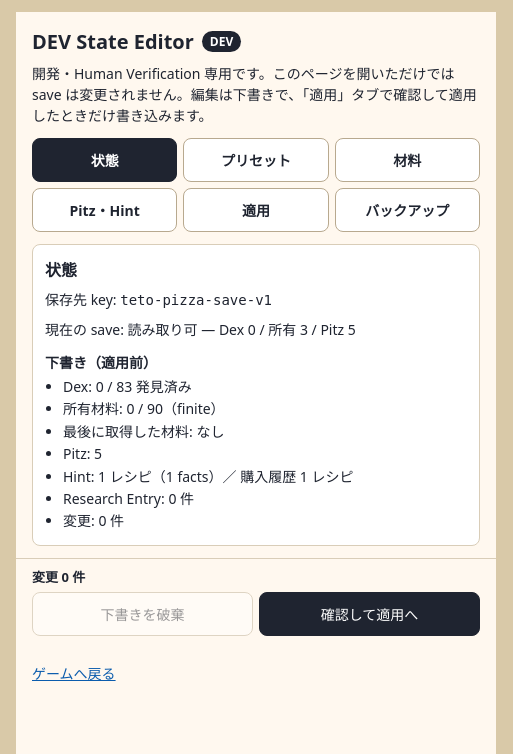
Test: review and the explicit apply › a backup that cannot be written means nothing is applied, and the error says so
Click the tab "プリセット".
click(256, 160)  # box [183, 138, 329, 182]
(page scrolled)
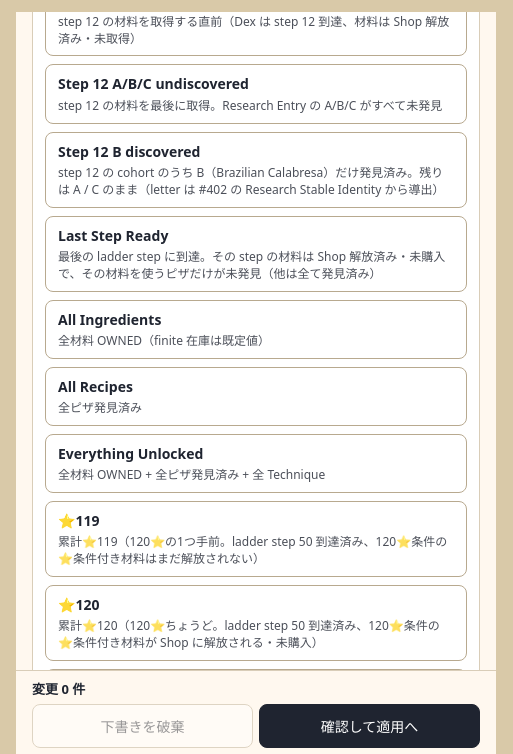
Click the button "All Recipes 全ピザ発見済み".
click(95, 386)  # box [45, 367, 467, 426]
(page scrolled)
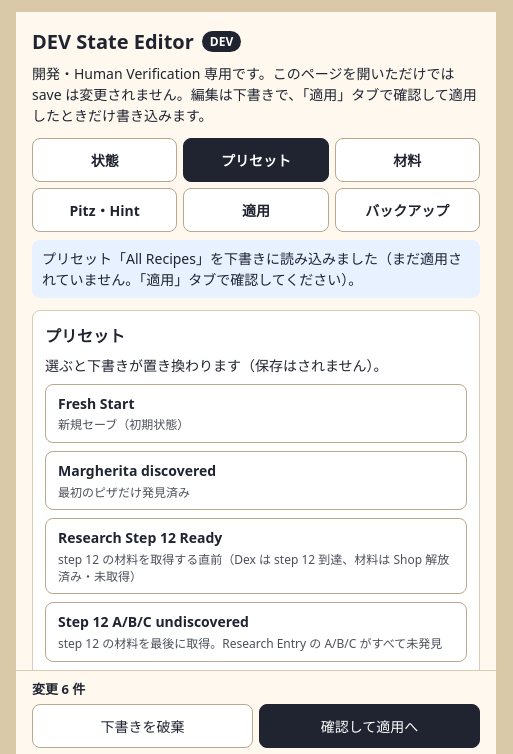
Click the tab "適用".
click(256, 210)  # box [183, 188, 329, 232]
(page scrolled)
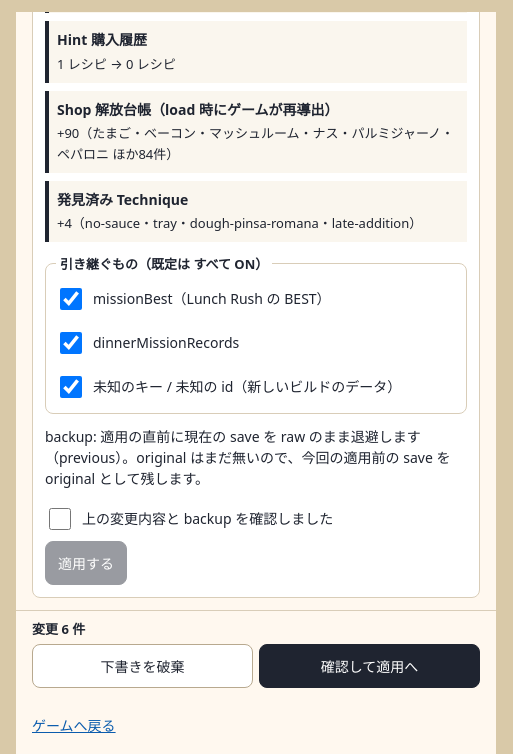
Click the checkbox labelled "上の変更内容と backup を確認しました".
click(60, 519)  # box [49, 508, 71, 530]
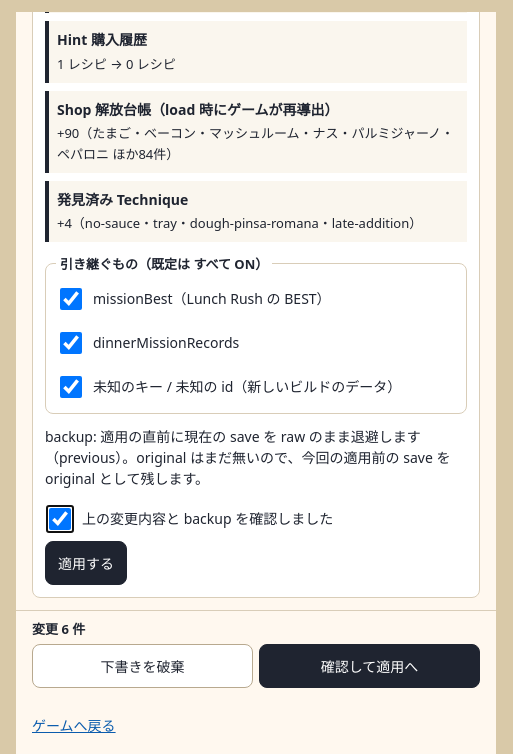
Click the button "適用する".
click(86, 563)  # box [45, 541, 127, 585]
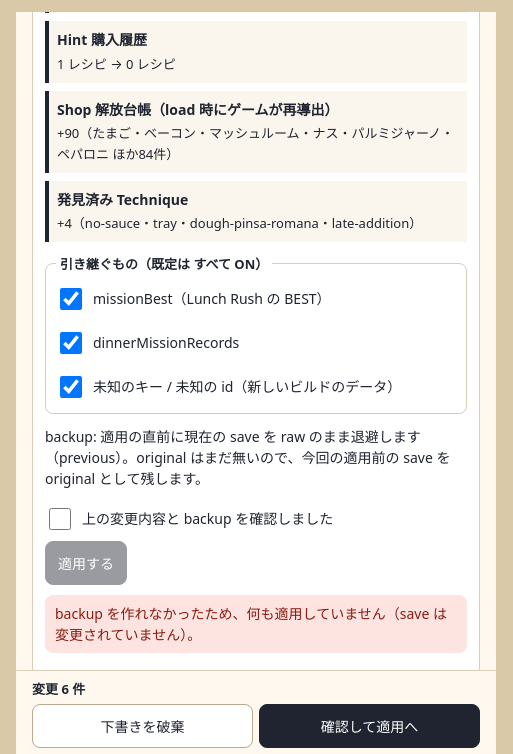
expect the message shows "backup を作れなかったため、何も適用していません": met, box [55, 604, 447, 644]
